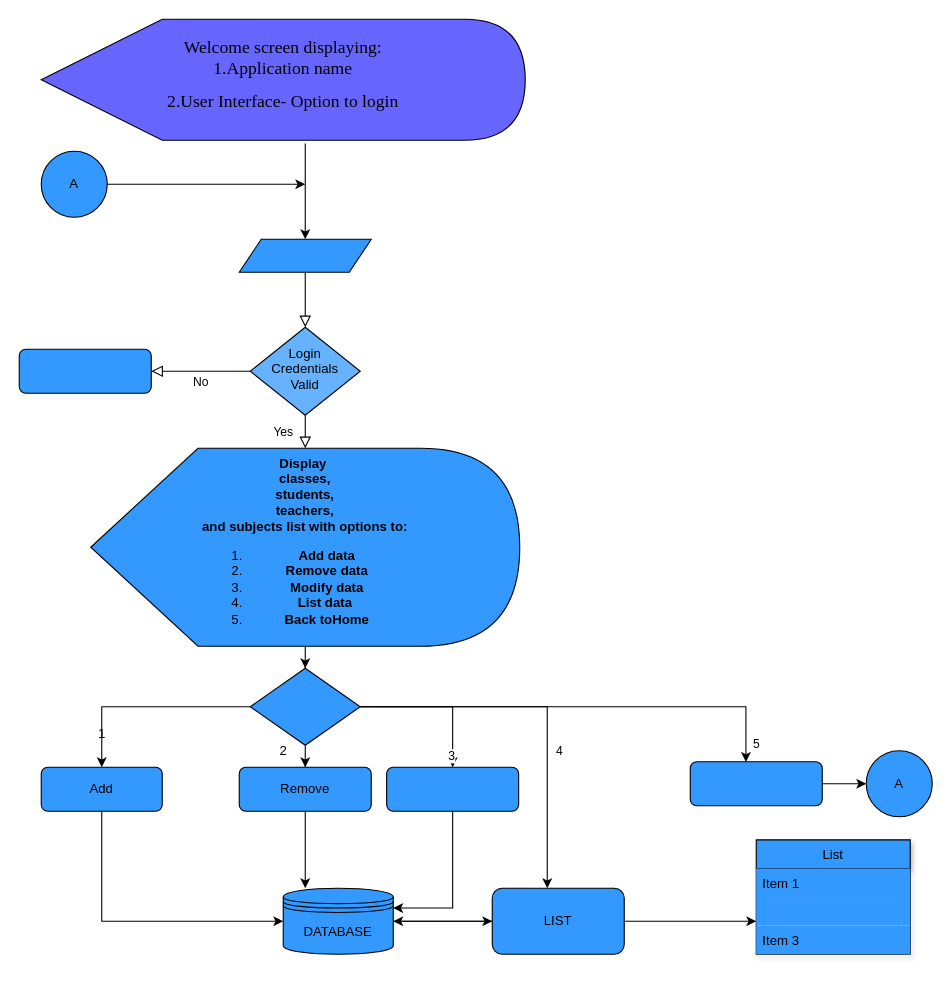
Image size: 952x981. Some labels were removed from this diagram. The shapes that lost their labels are listed below. From the top down, each one's centre as x and y in pixels, then its label:
At [304,255]: "User Input Credentials".
At [84,370]: "Plug in lamp".
At [304,706]: "Switch".
At [452,788]: "Modify".
At [755,783]: "Back toHome".
At [833,911]: "Item 2".
